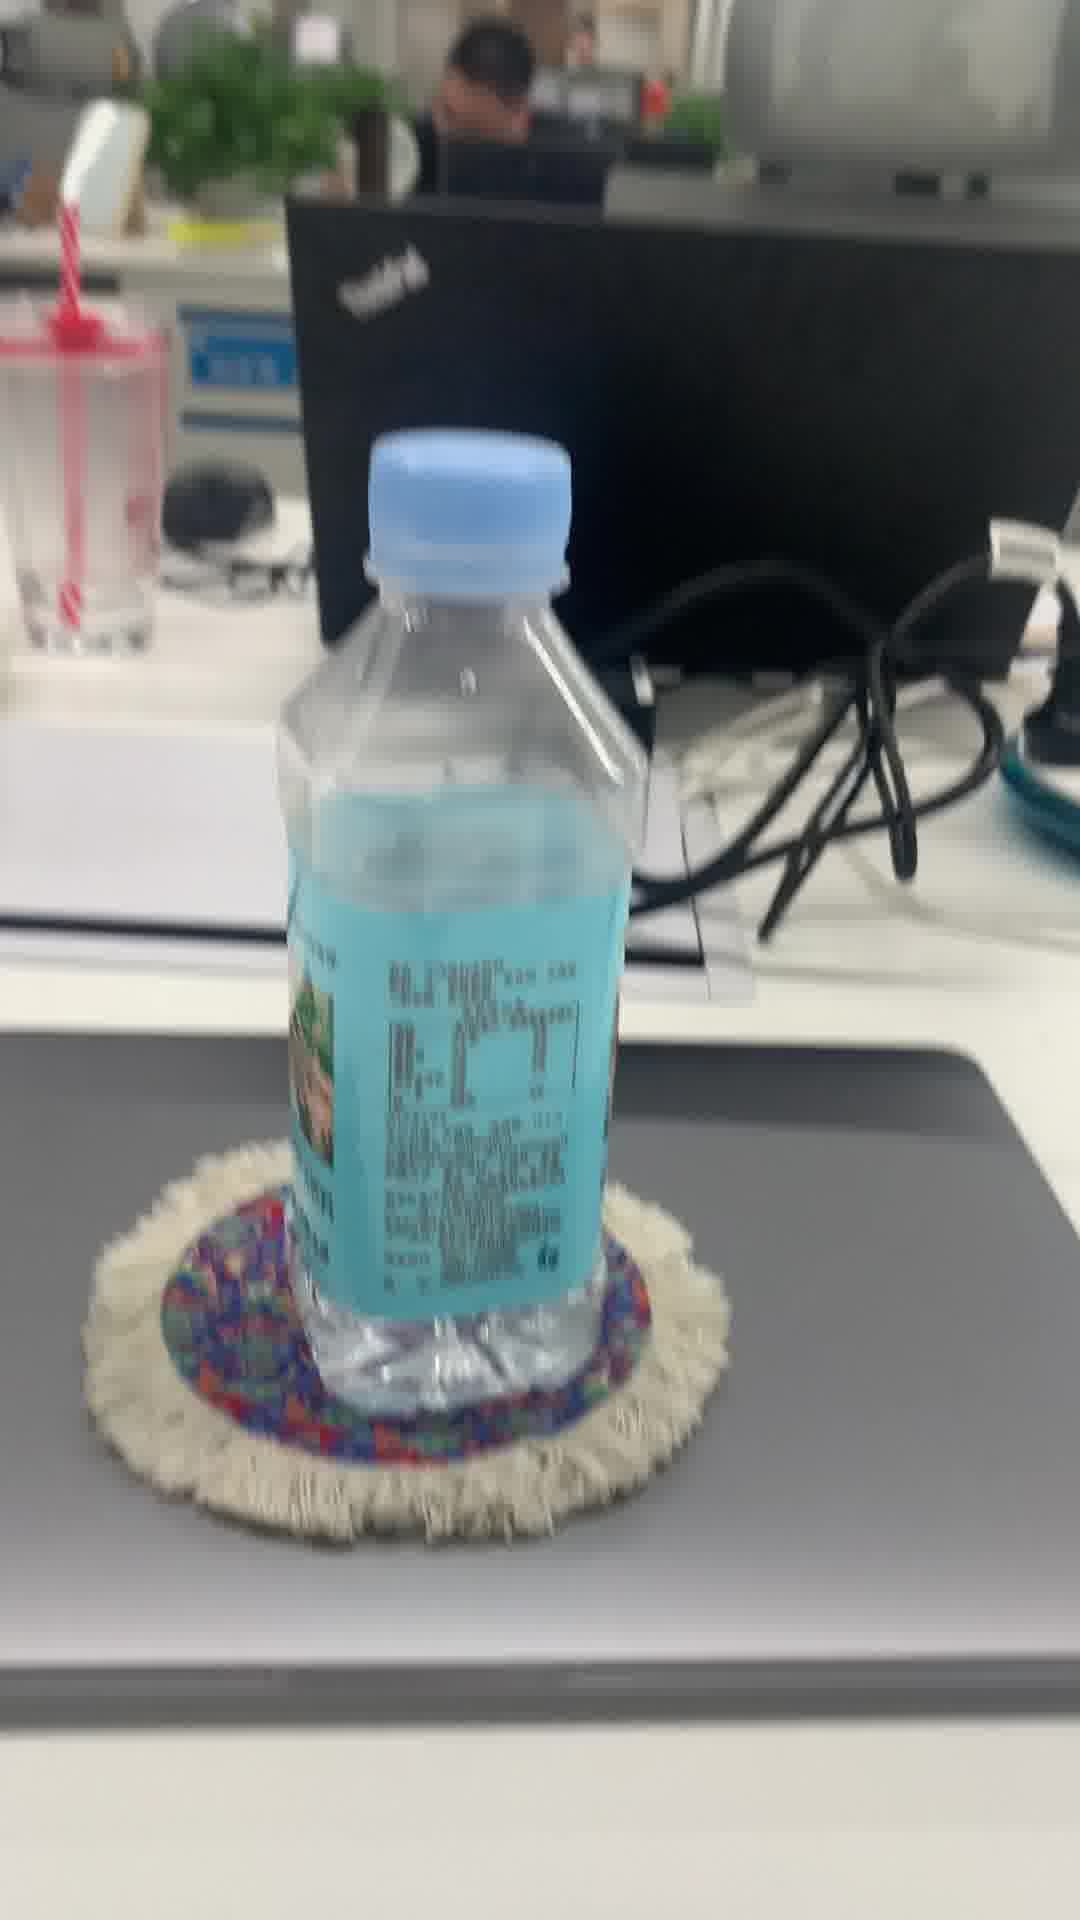水瓶: (260, 422, 659, 1412)
